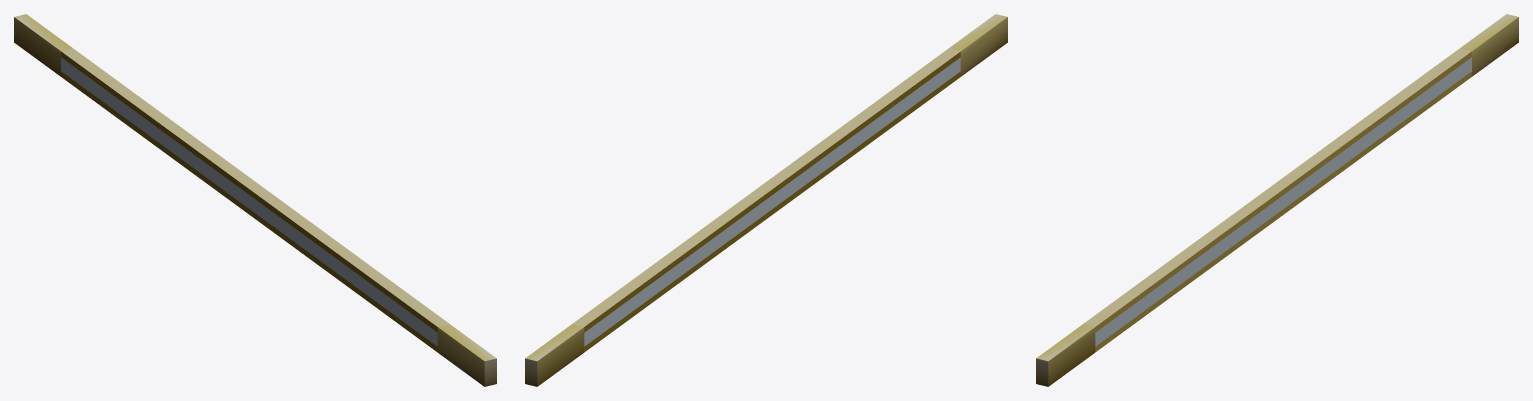
The model's file is SpaceGrindrail01.gltf.
The picture shows the model from 3 angles, left to right: view 1: azimuth 30°, elevation 25°; view 2: azimuth 150°, elevation 25°; view 3: azimuth 330°, elevation 25°; orthographic projection.
Parts seen in each view (by area): view 1: SpaceGrindrail01Mesh; view 2: SpaceGrindrail01Mesh; view 3: SpaceGrindrail01Mesh.
Part boxes in pixels (x1,y1,x2,y2): SpaceGrindrail01Mesh: (14,14,496,386); SpaceGrindrail01Mesh: (525,14,1007,386); SpaceGrindrail01Mesh: (1036,14,1518,386).
Bounding box in the file's own units: 0.15 × 0.3 × 10.
